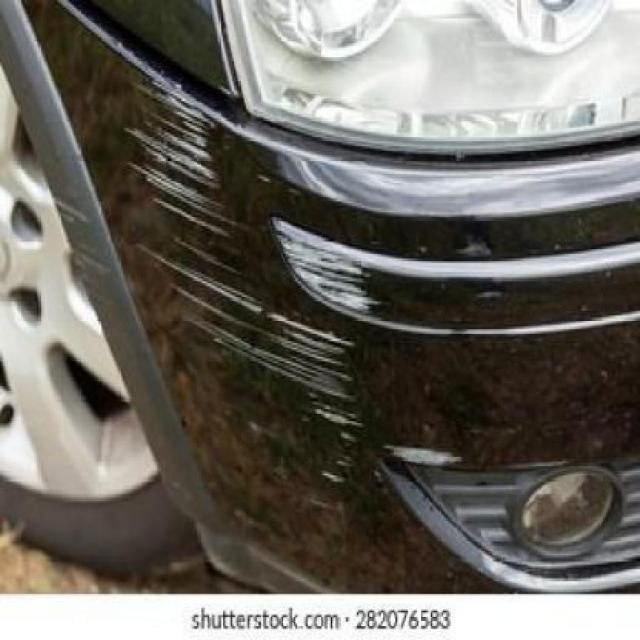scratch: (106, 68, 391, 500)
